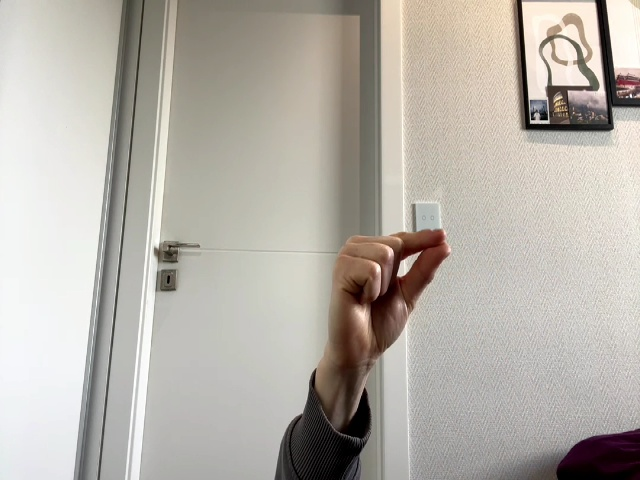P: (329, 229, 451, 362)
